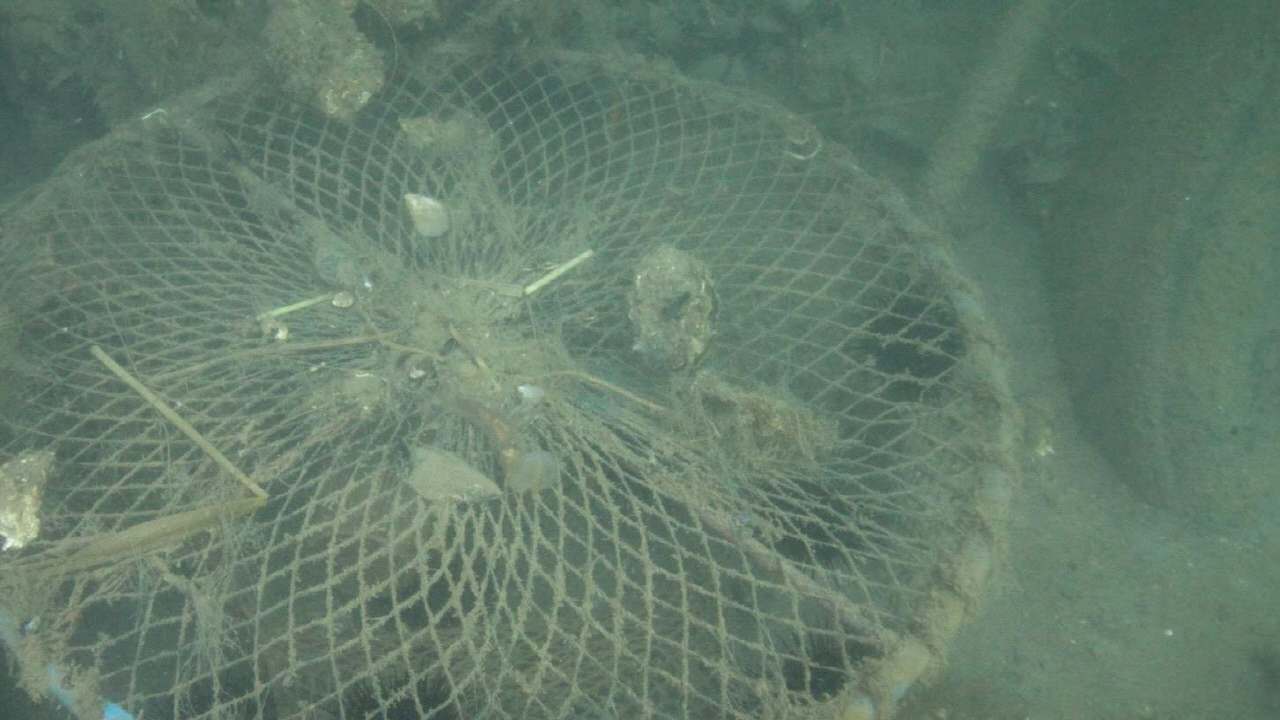circular fish trap: (0, 42, 1020, 720)
